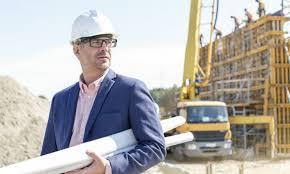helmet: (71, 11, 117, 37)
